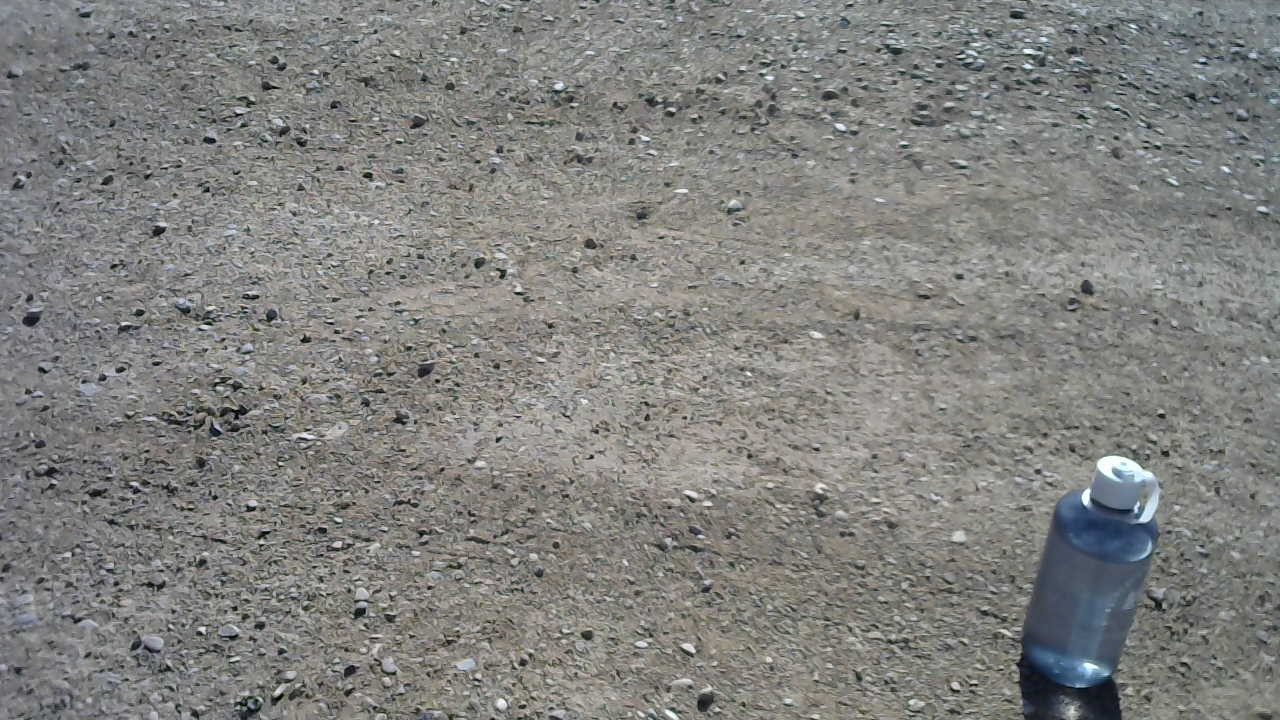bottle: (1018, 445, 1163, 685)
